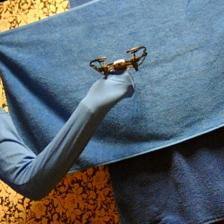drone: (90, 46, 147, 79)
